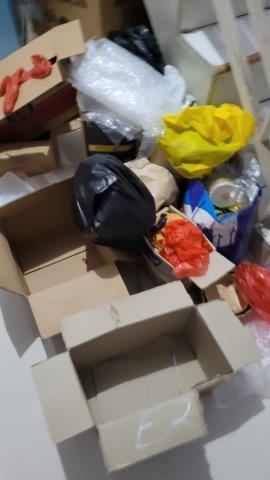plastik: (75, 38, 186, 128), (65, 158, 155, 248), (169, 211, 207, 278), (227, 264, 270, 318)
